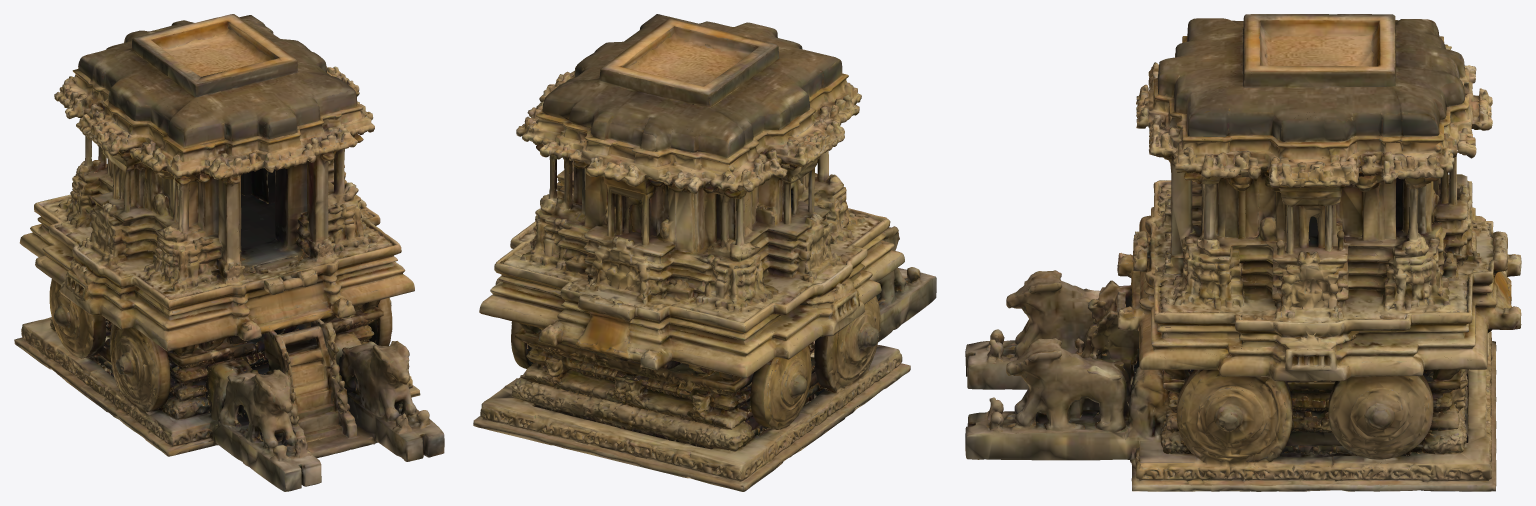
The model's file is hampi-stone-chariot.glb.
3 renders of one model, left to right at view 1: azimuth 30°, elevation 25°; view 2: azimuth 150°, elevation 25°; view 3: azimuth 270°, elevation 25°, orthographic. The views are drawn at different scales.
Bounding box in the file's own units: 0.3183 × 0.3365 × 0.45.
Materials: 1 (1 with a texture image).
